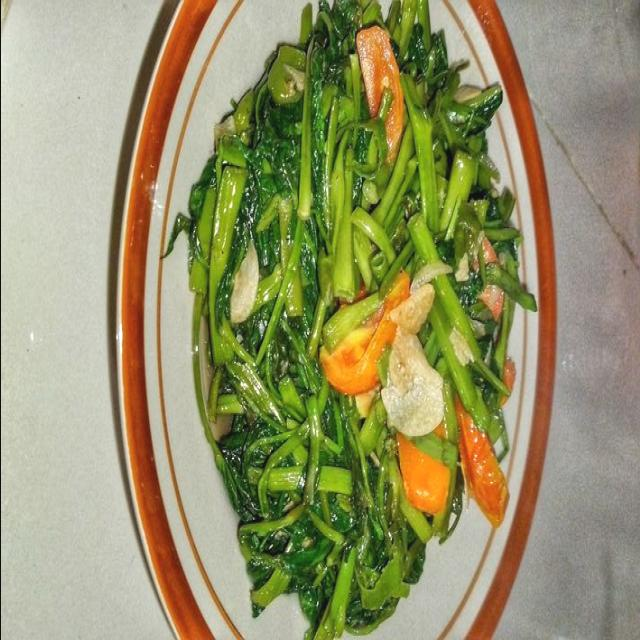tumis kangkung: (160, 0, 539, 640)
